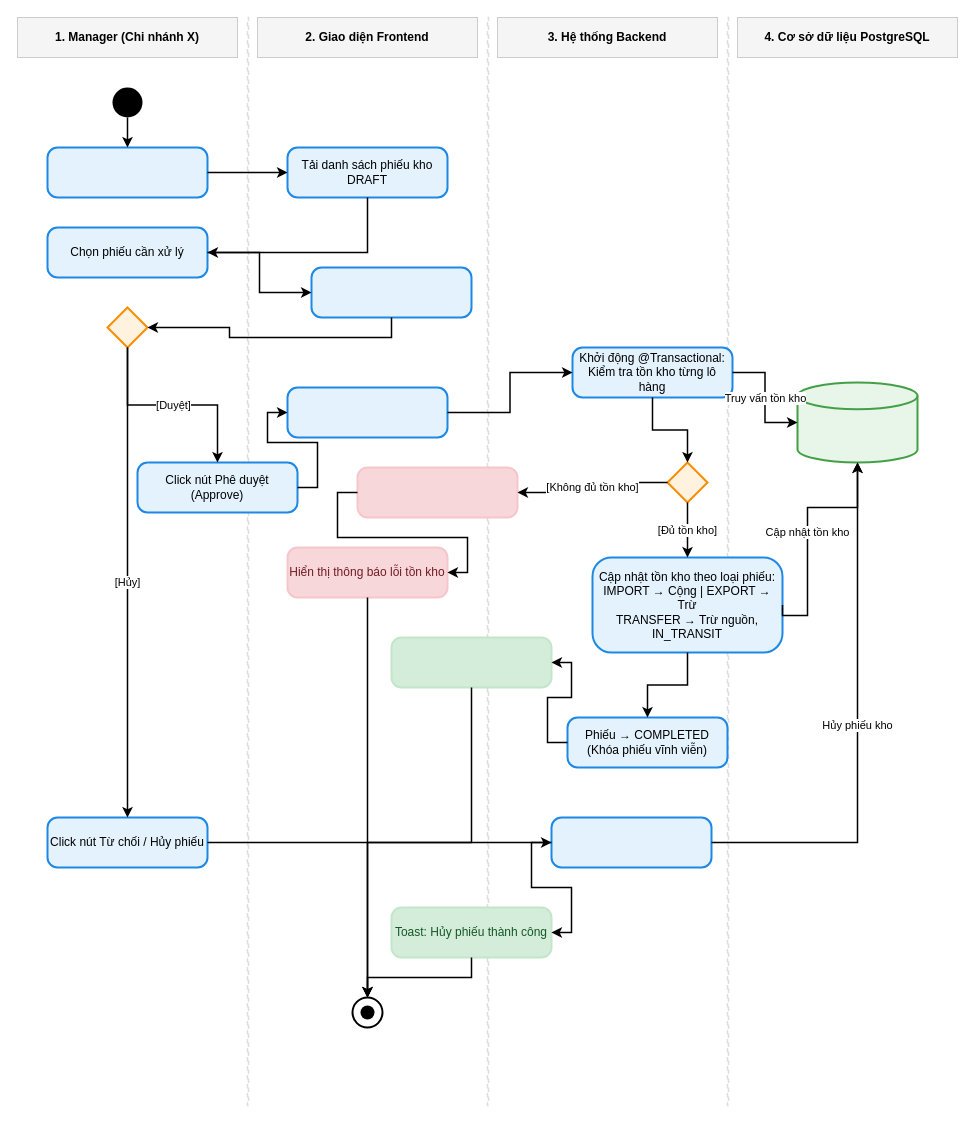
Some shapes in this 975 by 1124 pixel diagram are drawn without their labels. Each missing label, with the centre of its shape:
Bảng Receipts & ReceiptDetails & Inventories: the point at 857,422
Gửi yêu cầu duyệt phiếu lên Backend: the point at 367,412
Hiển thị chi tiết phiếu kho (sản phẩm, lô, số lượng, đơn giá): the point at 391,292
Phiếu → CANCELLED (Tồn kho giữ nguyên, khóa phiếu): the point at 631,842
Rollback toàn bộ transaction (tồn kho không đủ): the point at 437,492
Toast: Phê duyệt thành công & Refresh danh sách phiếu: the point at 471,662
Xem danh sách phiếu DRAFT của chi nhánh X: the point at 127,172
